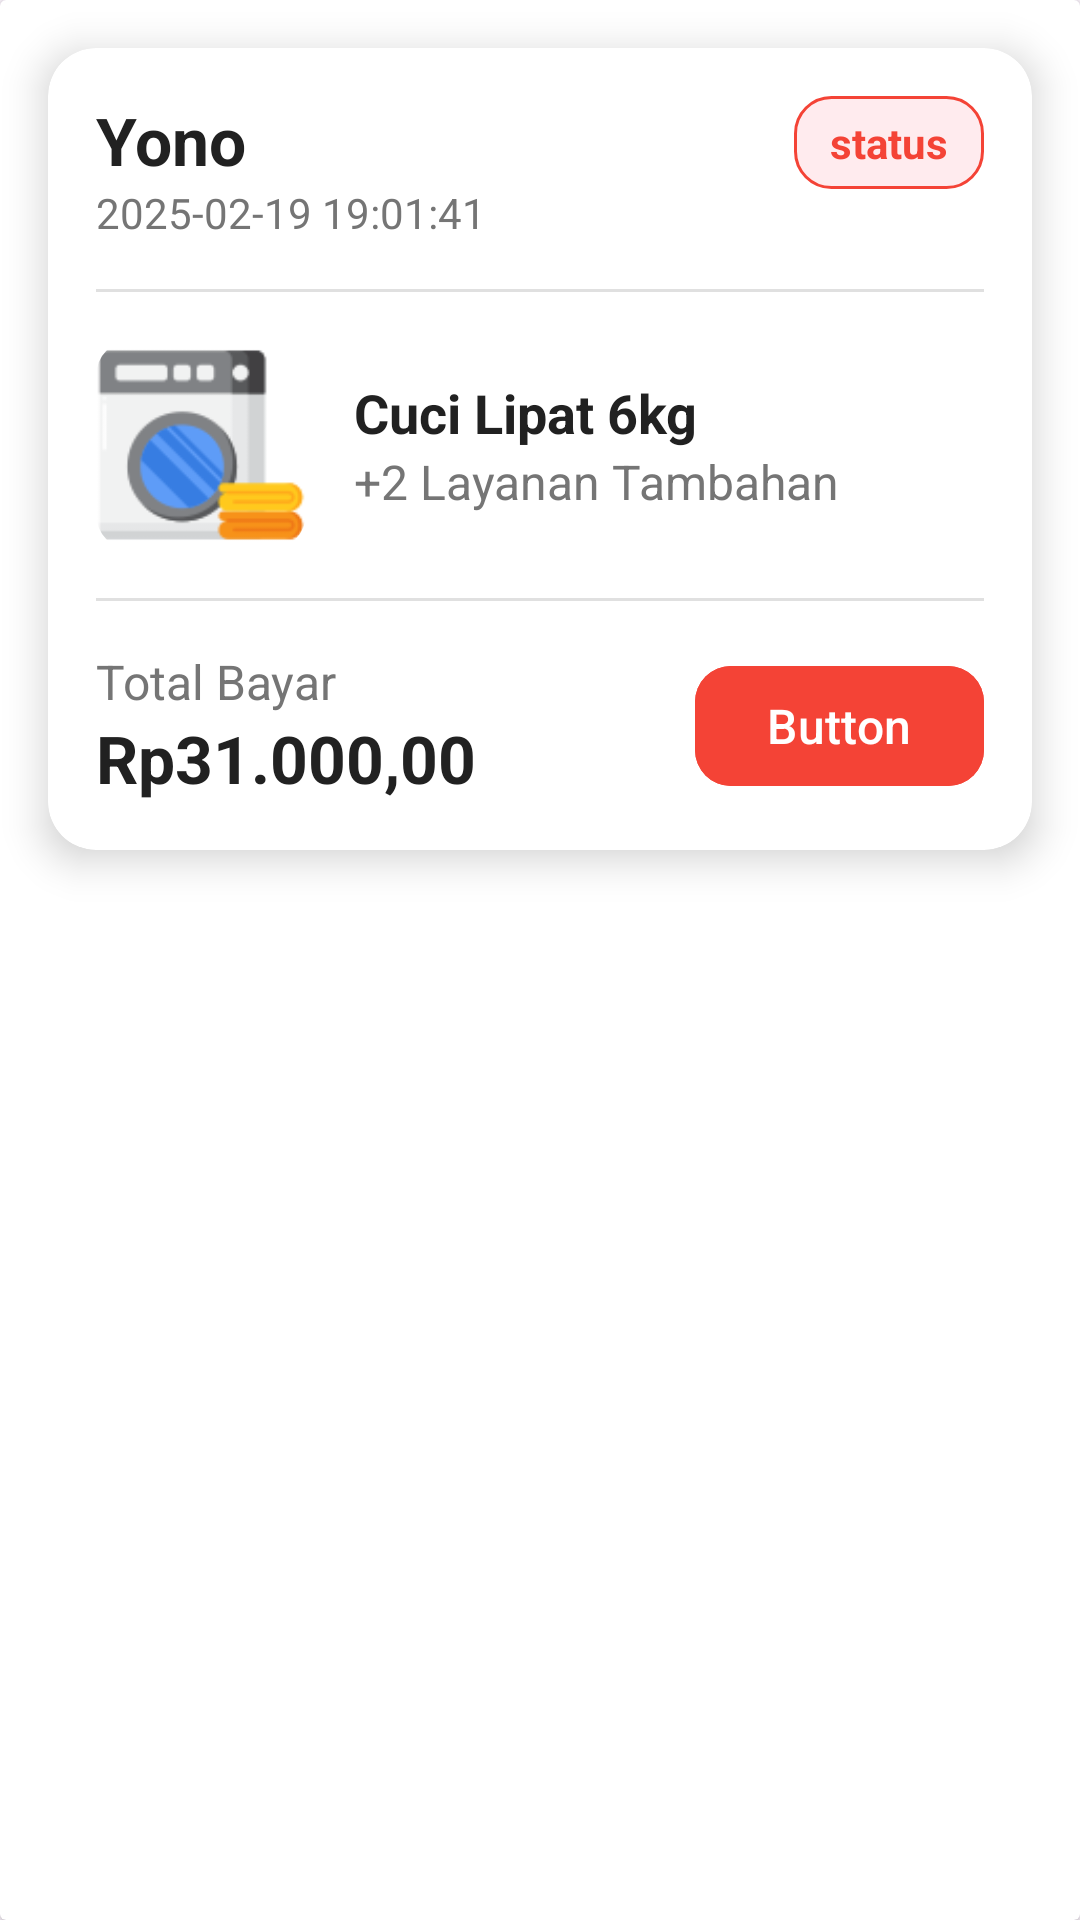

Named icons in this screenshot (1080px x 1920px) and their bounding boxes, bbox(x1, y1, x2, y2):
mesincuci: bbox(98, 350, 304, 540)
